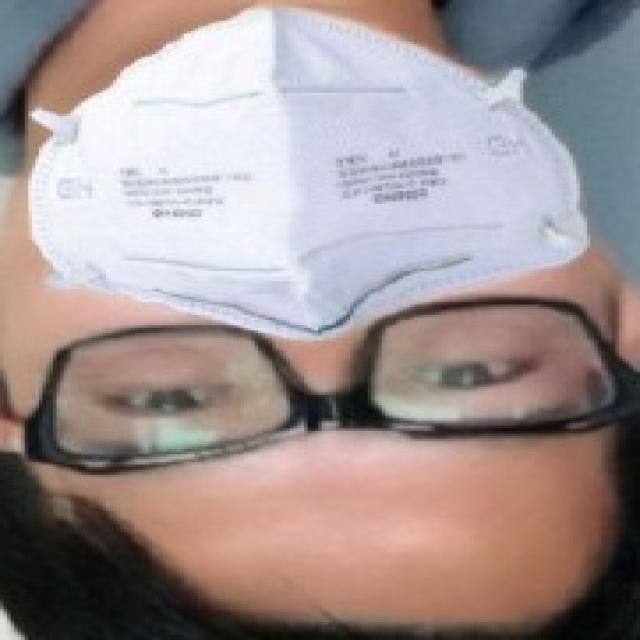mask: (29, 7, 628, 357)
